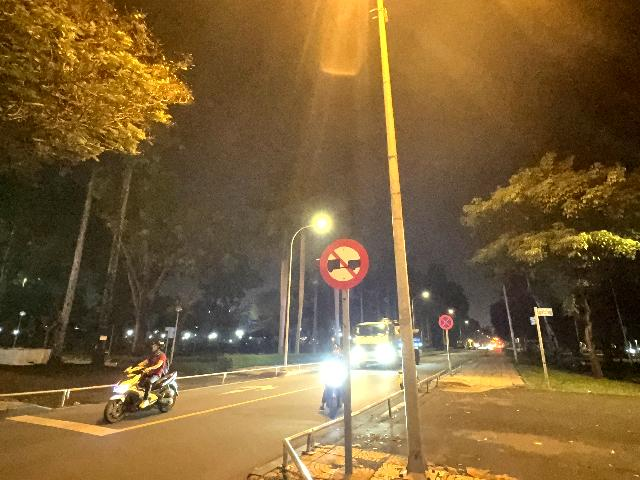cam-xe-somi-romooc: (320, 238, 370, 290)
